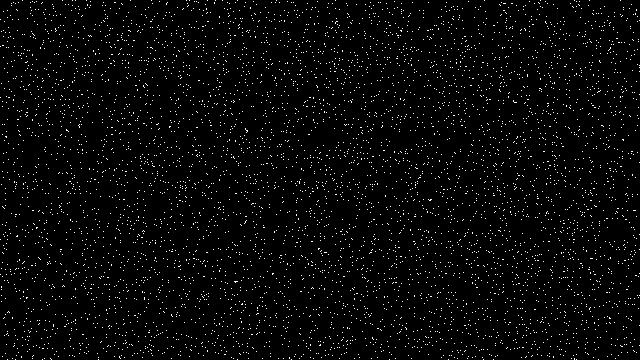pot: (377, 181, 542, 297), (43, 0, 194, 85), (109, 47, 202, 132), (314, 207, 390, 281), (158, 110, 211, 159), (292, 212, 336, 266), (275, 211, 311, 250)
